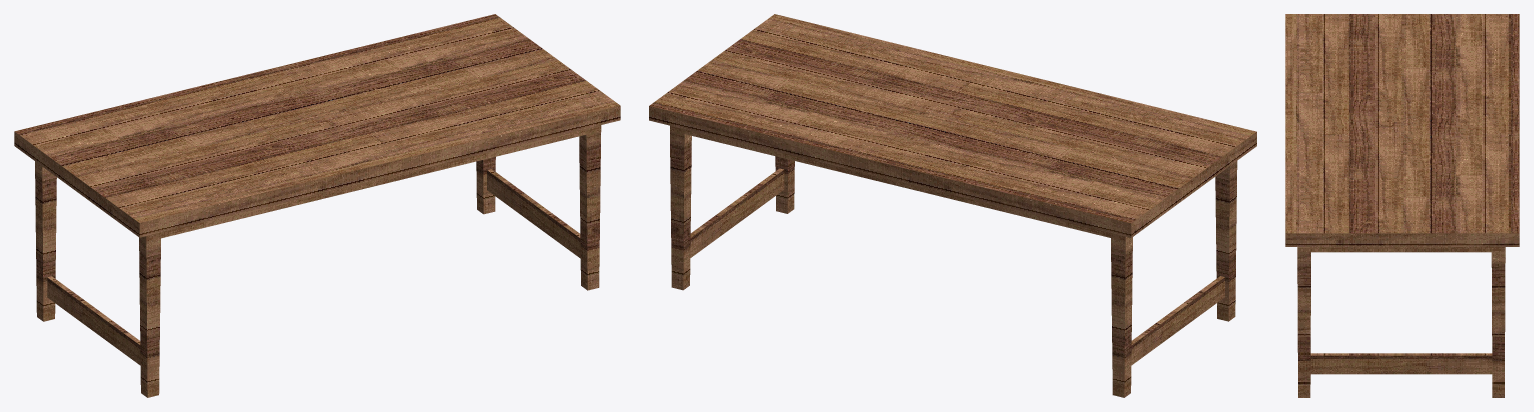
File: table.glb
3 views of the same model, side by side, from view 1: azimuth 30°, elevation 25°; view 2: azimuth 150°, elevation 25°; view 3: azimuth 270°, elevation 25° (orthographic). The views are drawn at different scales.
Parts seen in each view (by area): view 1: Table; view 2: Table; view 3: Table.
Part boxes in pixels (x1,y1,x2,y2): Table: [14, 14, 620, 397]; Table: [649, 14, 1256, 397]; Table: [1285, 14, 1519, 397].
Size of the model in its own units: 2.2 by 0.8005 by 0.9911.
Materials: 1 (1 with a texture image).
